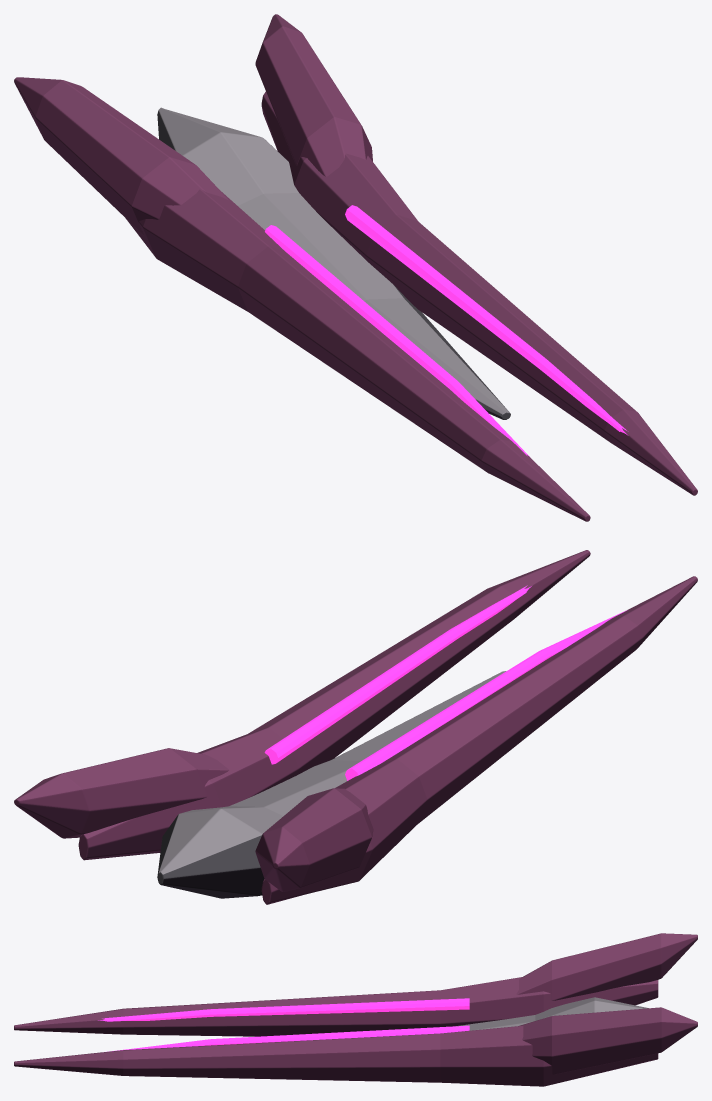
Rendered from Lancer.fbx.
3 renders of one model, top to bottom at view 1: azimuth 30°, elevation 25°; view 2: azimuth 150°, elevation 25°; view 3: azimuth 270°, elevation 25°, orthographic. The views are drawn at different scales.
Visible parts, largest first — view 1: Armor 1, Armor 2, Armor 3, Armor 4, Armor 5; view 2: Armor 1, Armor 2, Armor 3, Armor 5, Armor 4; view 3: Armor 2, Armor 1, Armor 5, Armor 4, Armor 3.
Boxes of the visible parts, x1,y1,x2,y2 form: Armor 1: [125, 189, 590, 521]; Armor 2: [261, 91, 697, 495]; Armor 3: [157, 107, 510, 419]; Armor 4: [14, 77, 228, 235]; Armor 5: [255, 14, 372, 176]; Armor 1: [261, 576, 697, 904]; Armor 2: [78, 550, 590, 860]; Armor 3: [157, 671, 505, 898]; Armor 5: [14, 748, 229, 838]; Armor 4: [255, 788, 373, 891]; Armor 2: [14, 1025, 658, 1086]; Armor 1: [14, 977, 658, 1036]; Armor 5: [519, 1007, 697, 1074]; Armor 4: [516, 933, 697, 1000]; Armor 3: [456, 997, 648, 1030].
Bounding box in the file's own units: 0.0607 × 0.0312 × 0.19.
